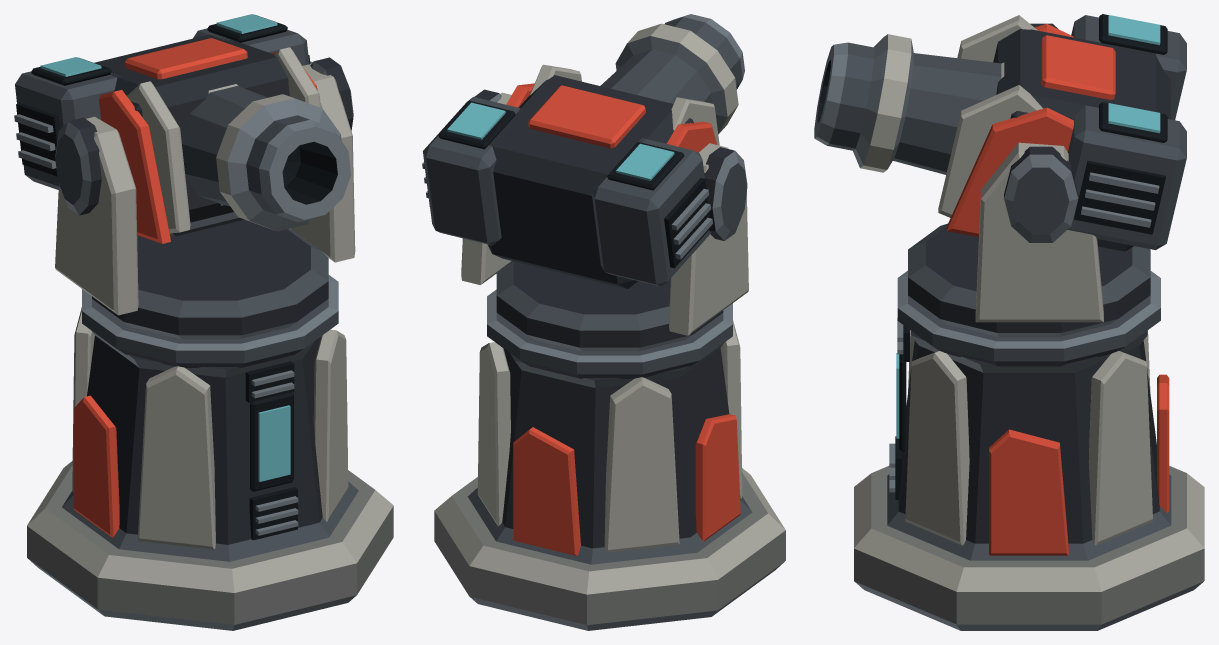
The model's file is lv3_balistique.glb.
The picture shows the model from 3 angles, left to right: view 1: azimuth 30°, elevation 25°; view 2: azimuth 150°, elevation 25°; view 3: azimuth 270°, elevation 25°; orthographic projection. The views are drawn at different scales.
Visible parts, largest first — view 1: Base, Barrel_Recoil, Turret_Yaw, Team_Panels, Base_TeamColor; view 2: Base, Barrel_Recoil, Turret_Yaw, Base_TeamColor, Team_Panels; view 3: Base, Barrel_Recoil, Turret_Yaw, Base_TeamColor, Team_Panels.
Boxes of the visible parts, <box> form: Base: <box>27,275,393,630</box>; Barrel_Recoil: <box>14,14,350,236</box>; Turret_Yaw: <box>55,57,355,339</box>; Team_Panels: <box>99,38,317,243</box>; Base_TeamColor: <box>73,395,119,537</box>; Base: <box>434,289,785,630</box>; Barrel_Recoil: <box>422,14,744,288</box>; Turret_Yaw: <box>461,89,748,351</box>; Base_TeamColor: <box>513,414,740,555</box>; Team_Panels: <box>506,83,716,152</box>; Base: <box>854,270,1204,630</box>; Barrel_Recoil: <box>814,14,1186,251</box>; Turret_Yaw: <box>908,23,1150,336</box>; Base_TeamColor: <box>989,374,1169,555</box>; Team_Panels: <box>946,24,1115,236</box>.
Bounding box in the file's own units: 1.59 × 2.6 × 1.77.
